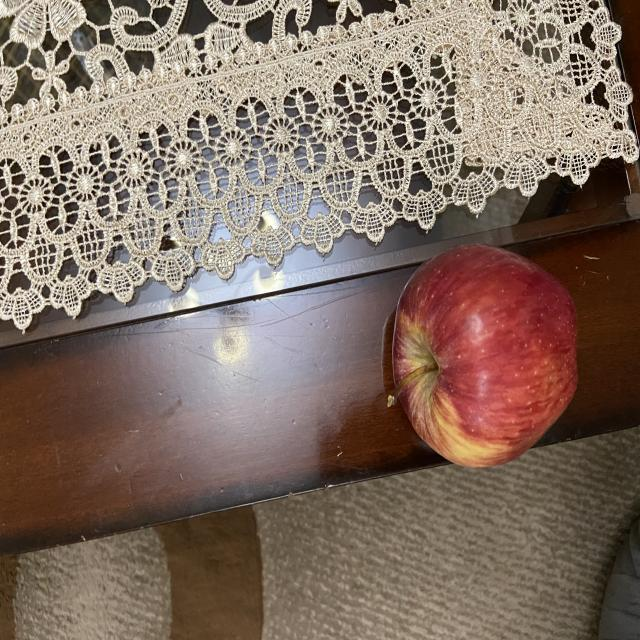apple: (376, 242, 584, 473)
